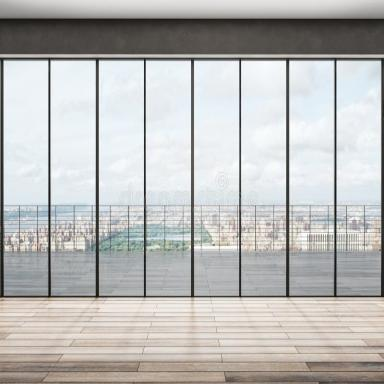glass_panel: (289, 60, 335, 293), (3, 61, 48, 294), (338, 60, 382, 294), (242, 61, 286, 293), (147, 62, 191, 293), (52, 62, 96, 293), (196, 61, 239, 294), (100, 62, 143, 294), (53, 205, 93, 252)
